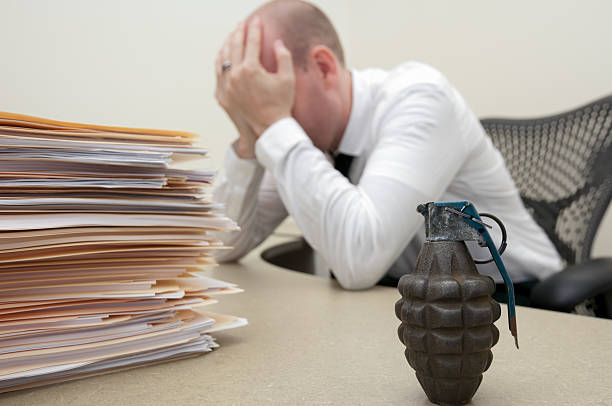e1: (395, 200, 523, 403)
